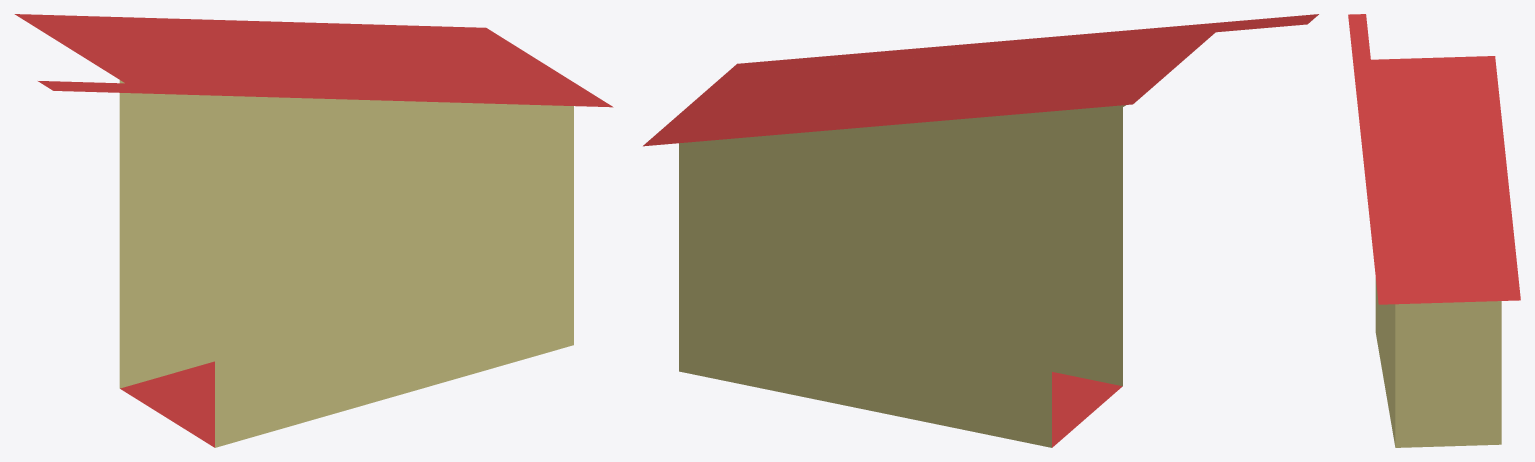
3 renders of one model, left to right at view 1: azimuth 30°, elevation 25°; view 2: azimuth 150°, elevation 25°; view 3: azimuth 270°, elevation 25°, orthographic. The views are drawn at different scales.
Size of the model in its own units: 17.66 by 7.18 by 12.02.
